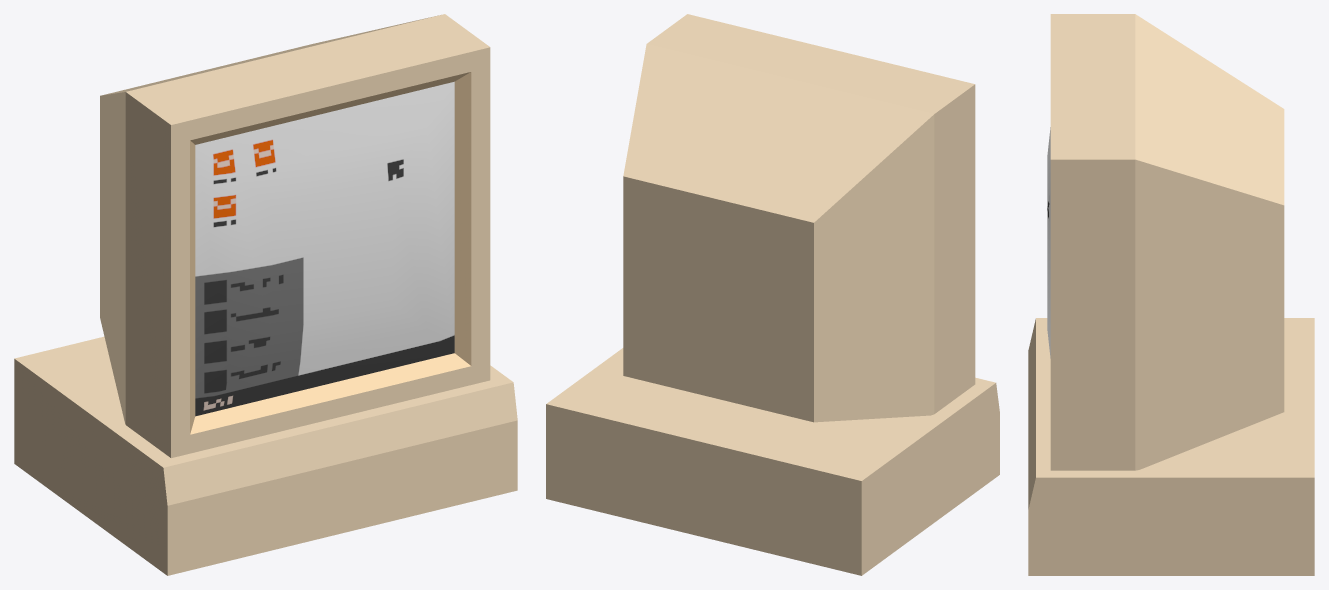
File: Computer_Old.fbx
The picture shows the model from 3 angles, left to right: view 1: azimuth 30°, elevation 25°; view 2: azimuth 150°, elevation 25°; view 3: azimuth 270°, elevation 25°; orthographic projection. The views are drawn at different scales.
Visible parts, largest first — view 1: Computer_Old; view 2: Computer_Old; view 3: Computer_Old.
Part boxes in pixels (bbox=[...]): Computer_Old: bbox=[14, 14, 517, 575]; Computer_Old: bbox=[546, 14, 999, 575]; Computer_Old: bbox=[1028, 14, 1314, 575].
Bounding box in the file's own units: 43.86 × 52.47 × 33.26.
